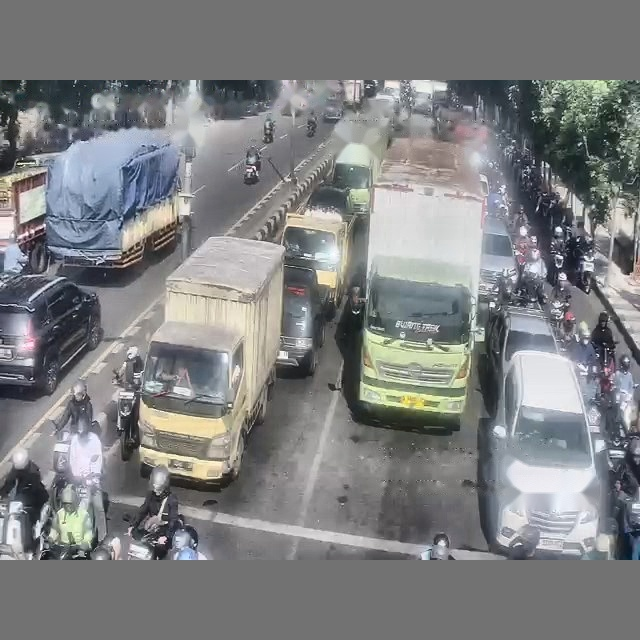Mobil: (481, 351, 603, 555), (0, 275, 102, 394), (485, 307, 558, 383), (277, 264, 325, 375), (479, 217, 517, 301), (305, 185, 348, 217), (322, 99, 343, 121)
Motor: (113, 370, 141, 461), (576, 244, 594, 294), (243, 164, 259, 185), (263, 125, 275, 144), (307, 120, 316, 136)
Truk: (359, 137, 485, 428), (139, 237, 283, 482), (46, 128, 182, 268), (0, 166, 48, 273), (343, 80, 364, 109)
